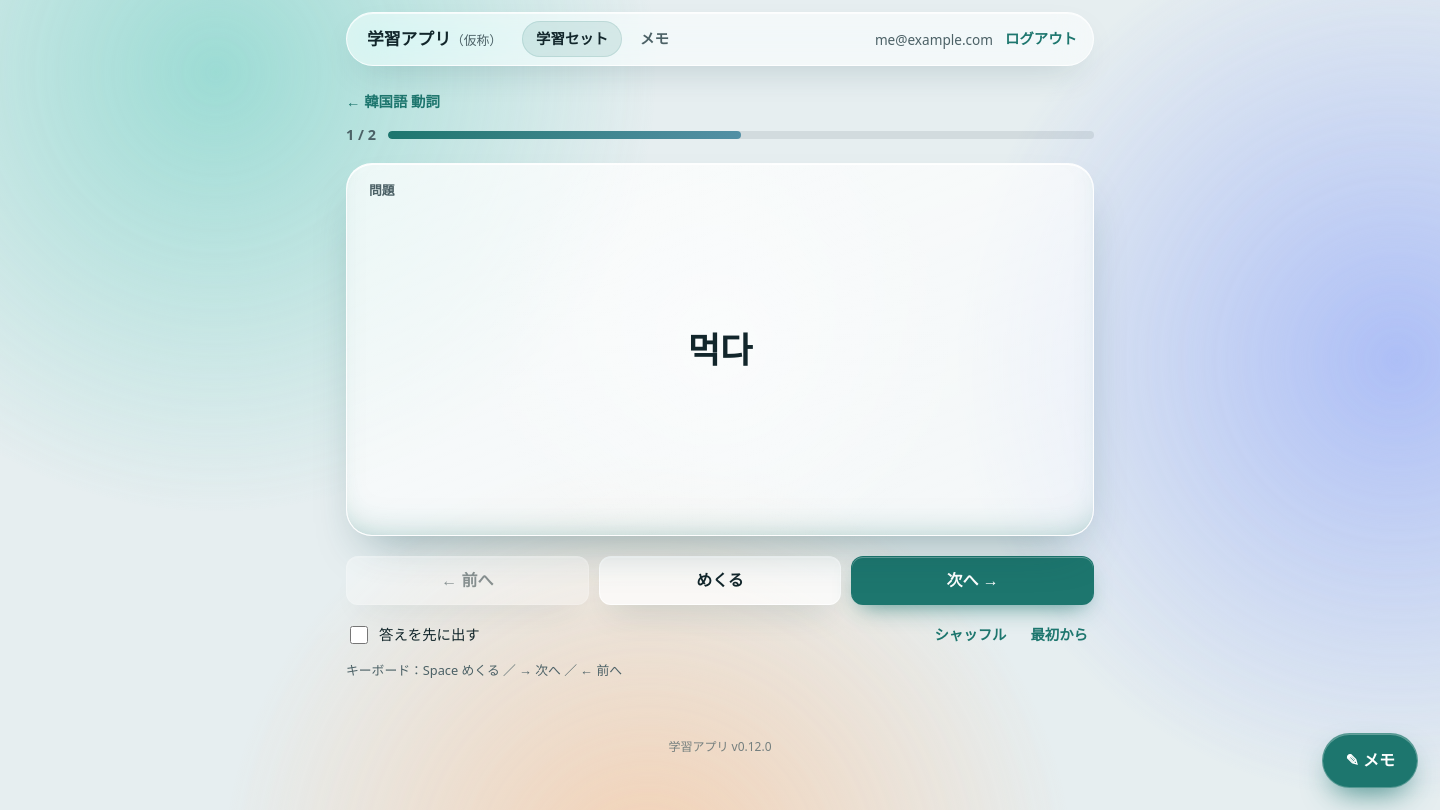
Test: カードで学ぶ › クリックでめくり、次へで次のカード。最後まで行くと終了画面
Expected: the text "1 / 2" is shown, x1=346 y1=123 x2=376 y2=148
Click the button "問題 먹다 答え 食べる" at (720, 350), box x1=346 y1=164 x2=1094 y2=536
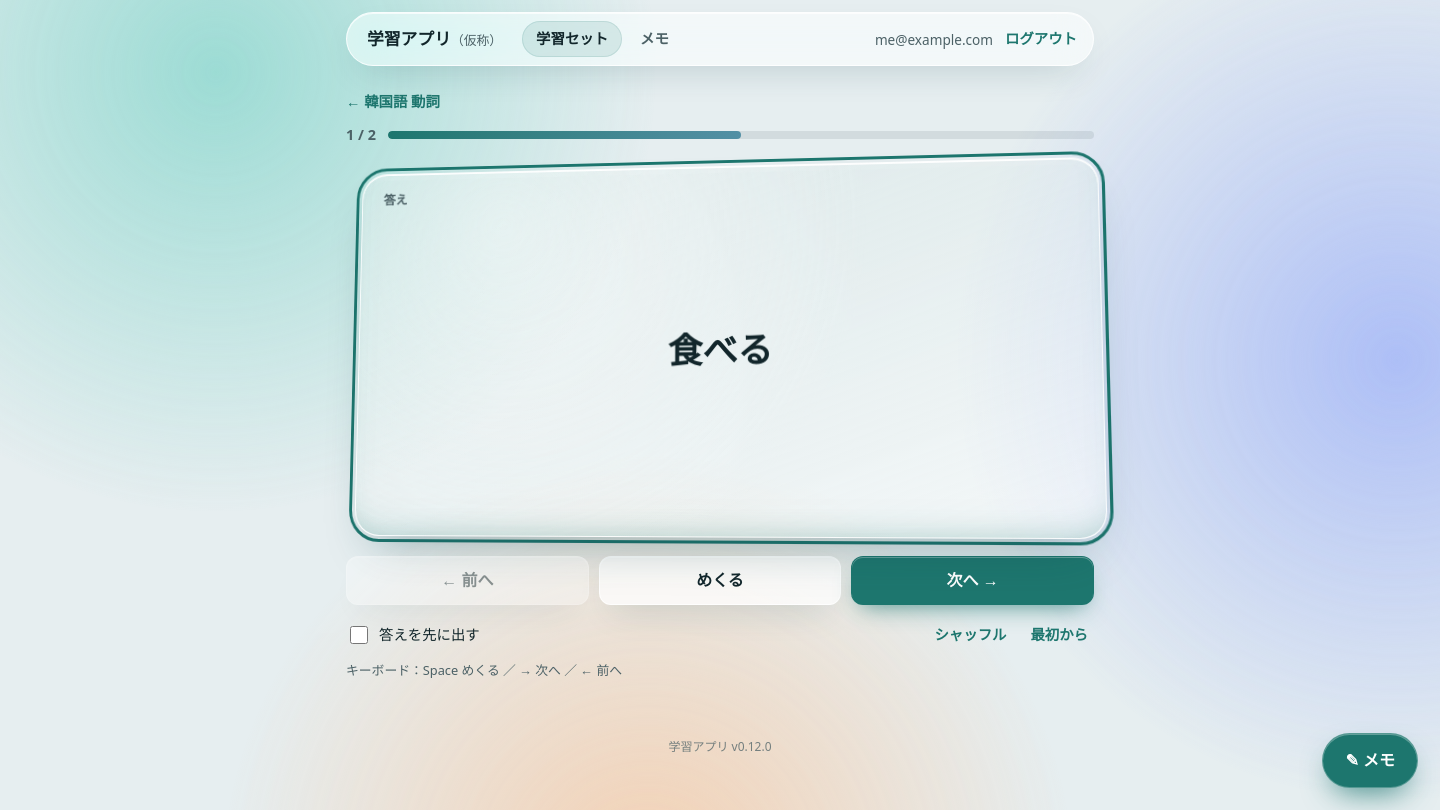
Expected: the button "問題 먹다 答え 食べる" is shown, x1=354 y1=157 x2=1108 y2=539
Click the button "次へ →" at (973, 581), box x1=851 y1=556 x2=1094 y2=605
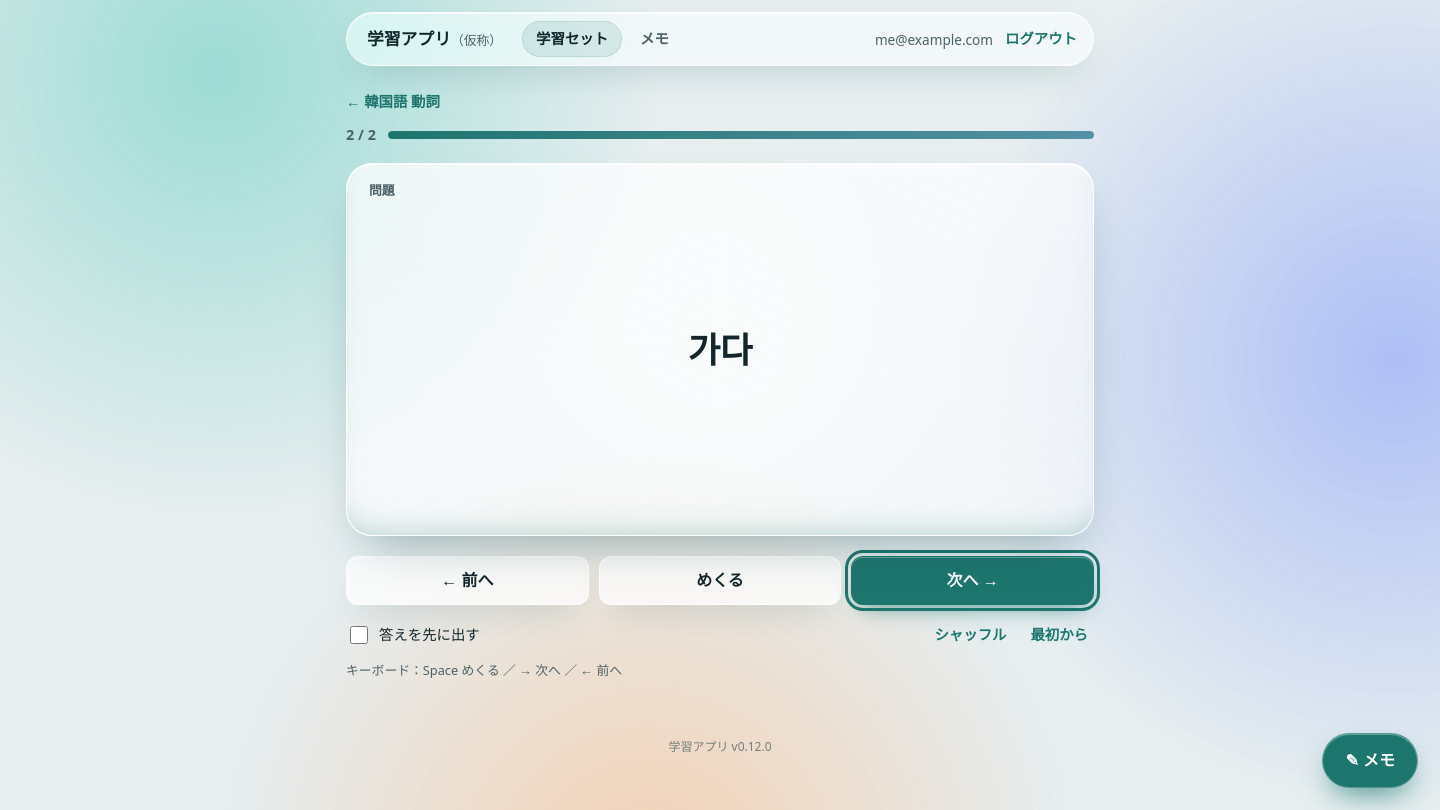
Now the button "問題 가다 答え 行く" is shown, box x1=346 y1=164 x2=1094 y2=536
Now the text "2 / 2" is shown, box x1=346 y1=123 x2=376 y2=148
Click the button "次へ →" at (973, 581), box x1=851 y1=556 x2=1094 y2=605
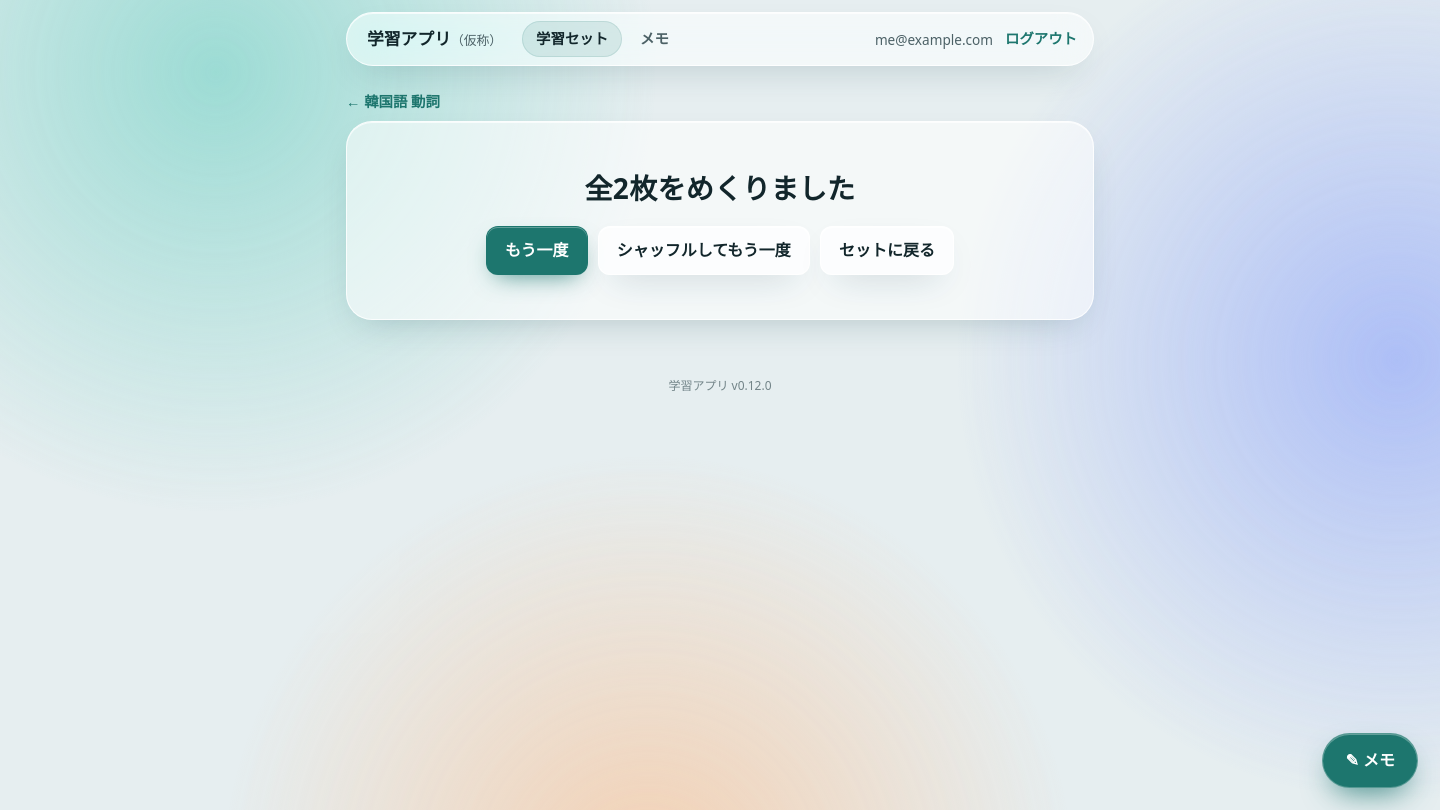
Now the heading "全2枚をめくりました" is shown, box x1=585 y1=169 x2=855 y2=207
